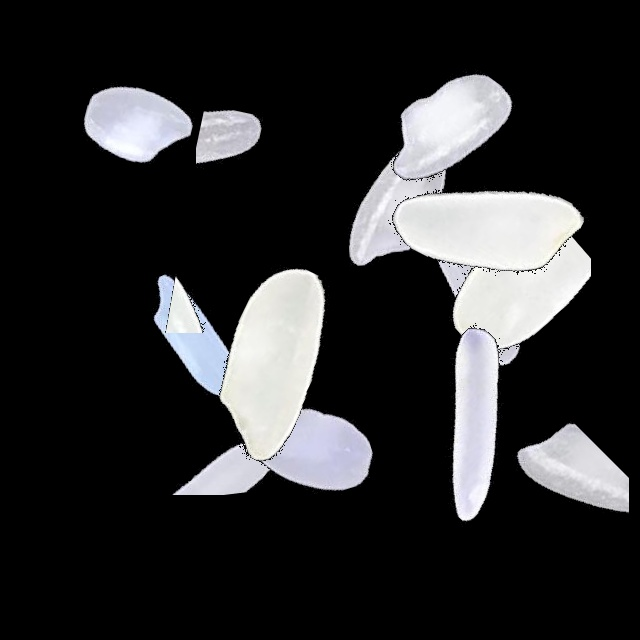Broken: (417, 167, 591, 417), (482, 383, 629, 633), (86, 363, 336, 495), (196, 29, 316, 279), (424, 165, 532, 415), (86, 255, 336, 333)
Full: (270, 77, 520, 327), (351, 169, 601, 419), (69, 213, 319, 463), (346, 299, 596, 549), (361, 99, 611, 349), (189, 327, 439, 577), (321, 4, 571, 254), (13, 1, 263, 251), (149, 235, 399, 485)
